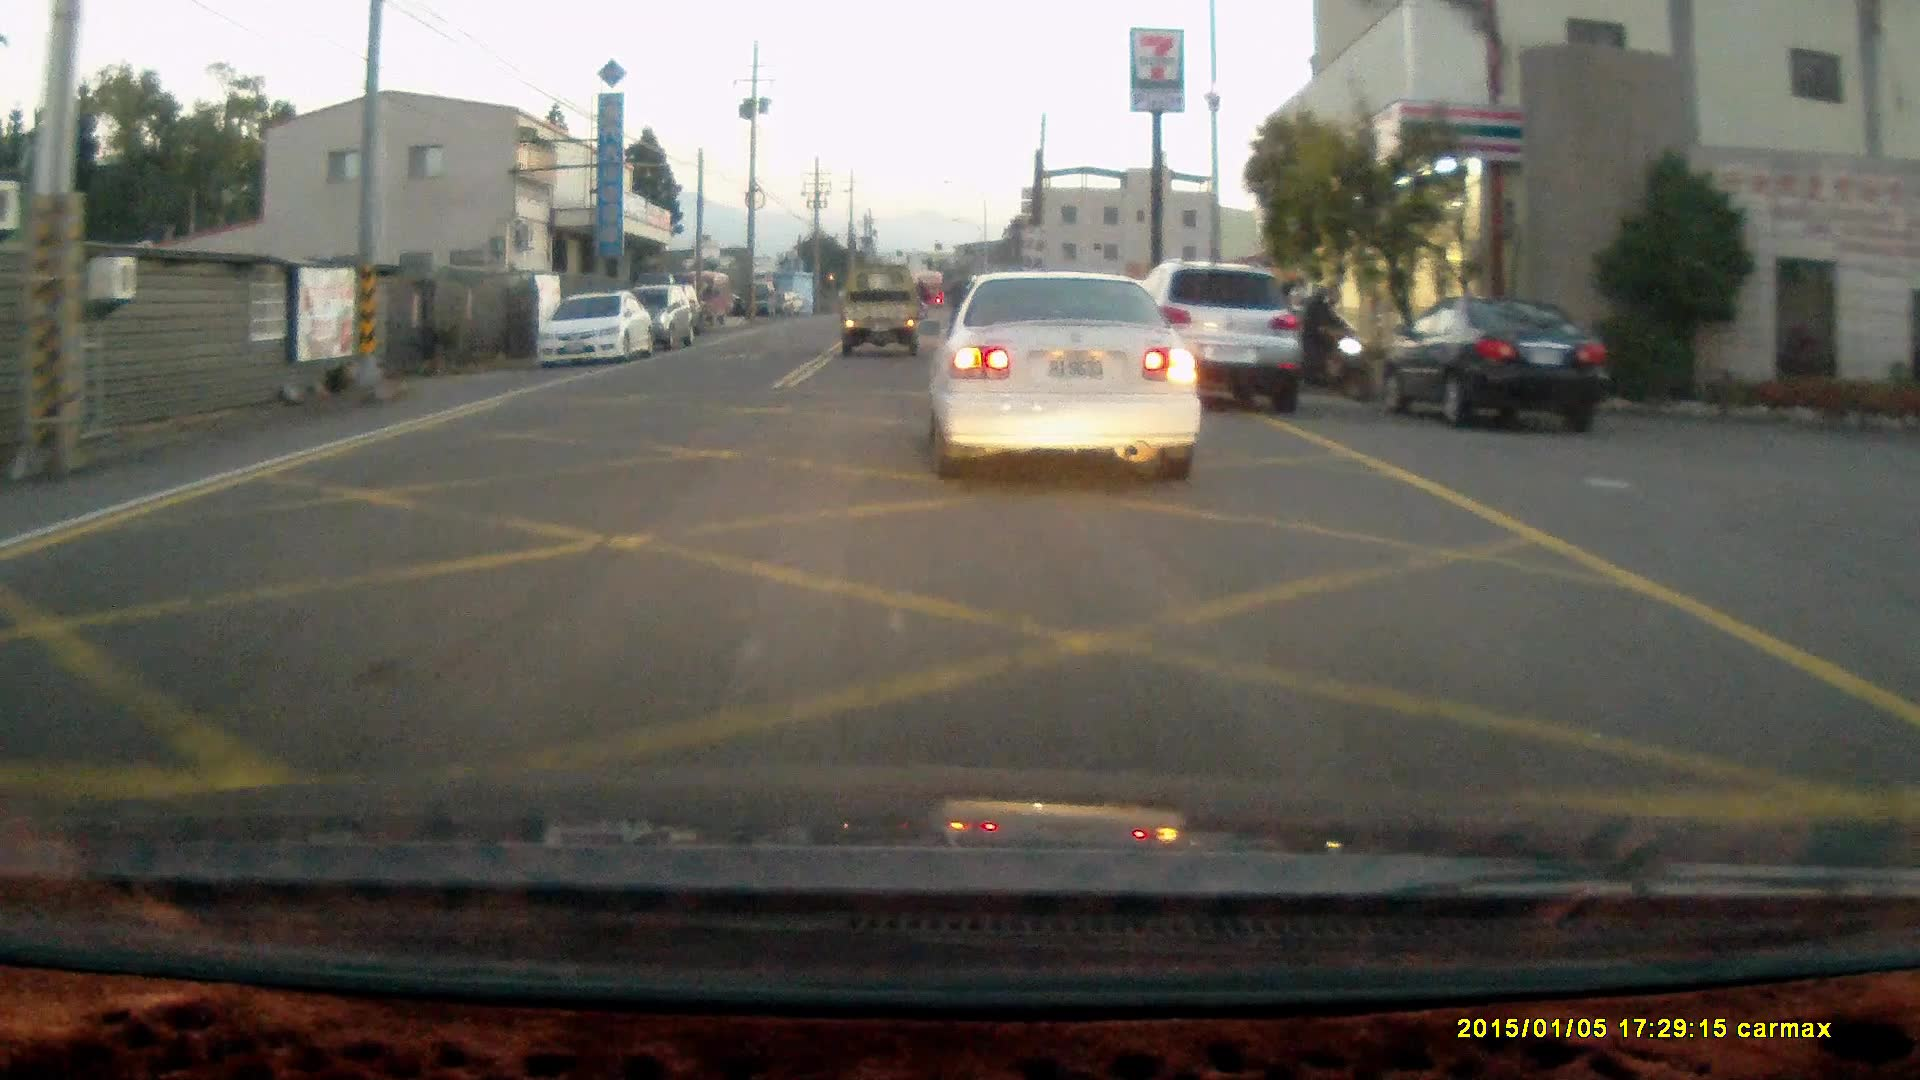rider: (1286, 283, 1372, 400)
vehicle: (945, 274, 1211, 485), (1382, 301, 1605, 433), (1145, 262, 1316, 417), (533, 289, 655, 374), (844, 264, 931, 356), (628, 285, 702, 353)
